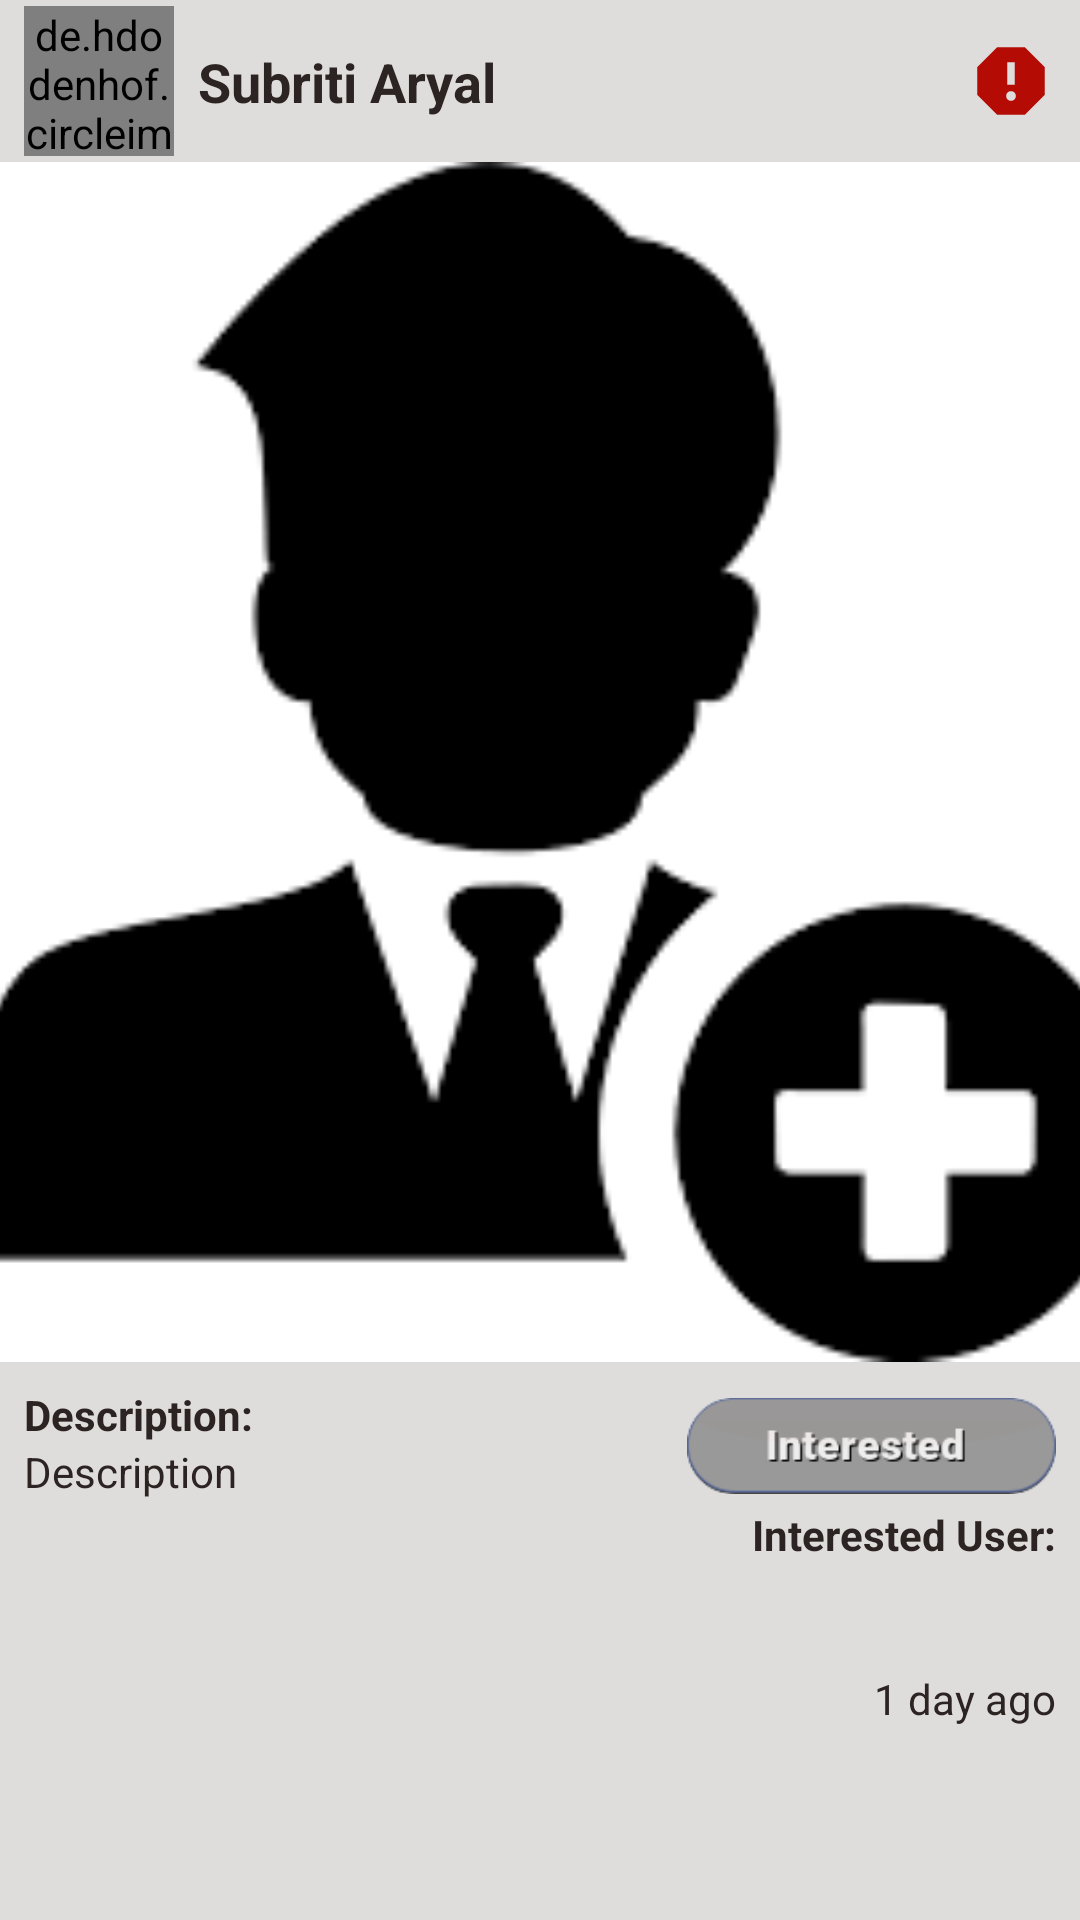

Where icons sit on this 1080*1920 app screen, as (x1, y1, x2, y2):
report: (977, 47, 1045, 115)
